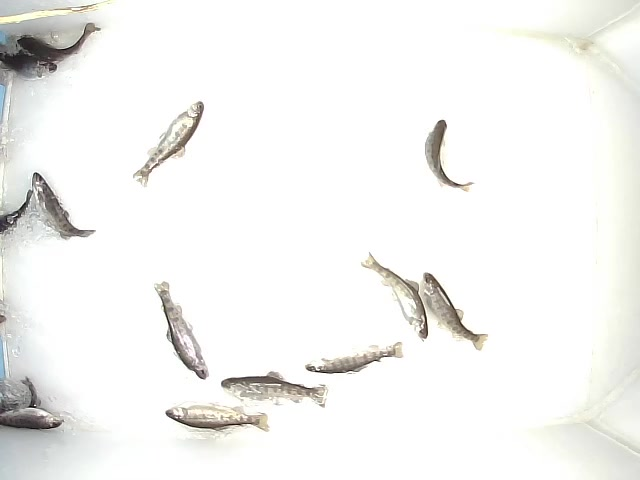fish: (359, 252, 434, 341), (133, 98, 205, 190), (419, 265, 489, 354), (154, 279, 210, 379), (29, 170, 96, 240), (304, 335, 409, 375), (15, 17, 104, 63), (422, 118, 477, 192), (221, 370, 328, 408), (162, 400, 274, 436)
